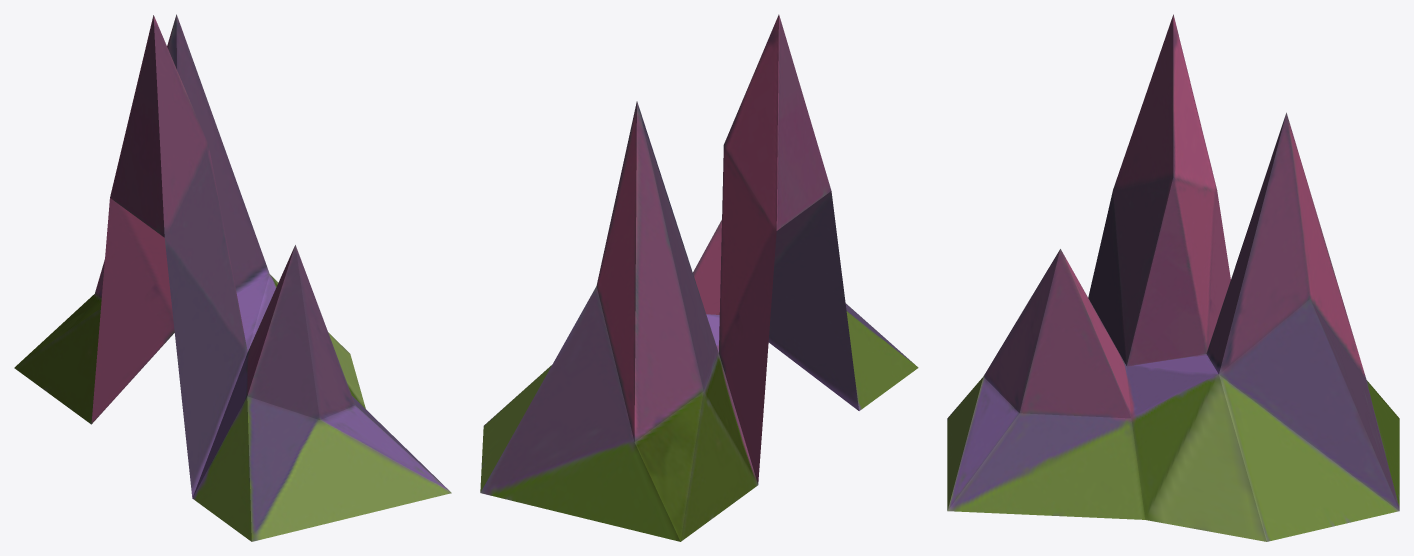
File: wall_crys_deco_C.fbx
The picture shows the model from 3 angles, left to right: view 1: azimuth 30°, elevation 25°; view 2: azimuth 150°, elevation 25°; view 3: azimuth 270°, elevation 25°; orthographic projection. The views are drawn at different scales.
Parts seen in each view (by area): view 1: wall_crys_deco_C; view 2: wall_crys_deco_C; view 3: wall_crys_deco_C.
Boxes of the visible parts, x1,y1,x2,y2 form: wall_crys_deco_C: (14,14,451,541); wall_crys_deco_C: (480,14,918,541); wall_crys_deco_C: (947,14,1399,541).
Size of the model in its own units: 0.0129 by 0.0202 by 0.02.
